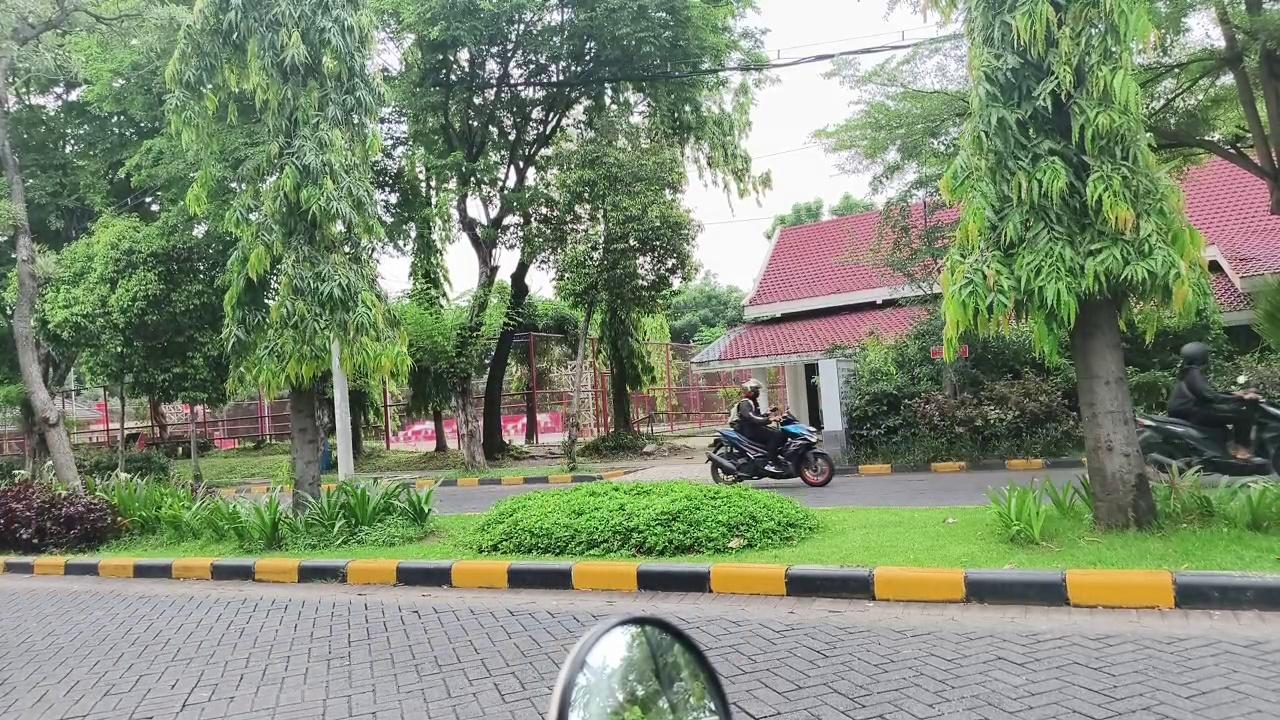Helmet: (1168, 342, 1260, 458), (735, 379, 784, 462)
Motor: (1136, 399, 1279, 475), (706, 412, 834, 486)
